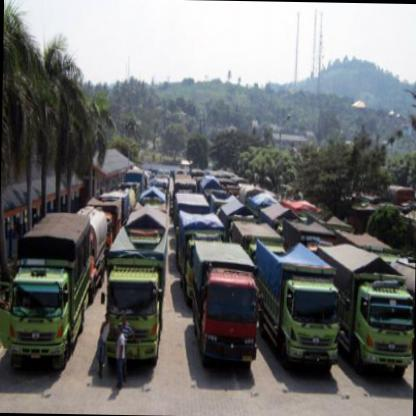truck: (10, 266, 76, 378), (355, 279, 416, 383), (106, 265, 164, 371), (203, 268, 261, 374), (283, 276, 344, 376)
